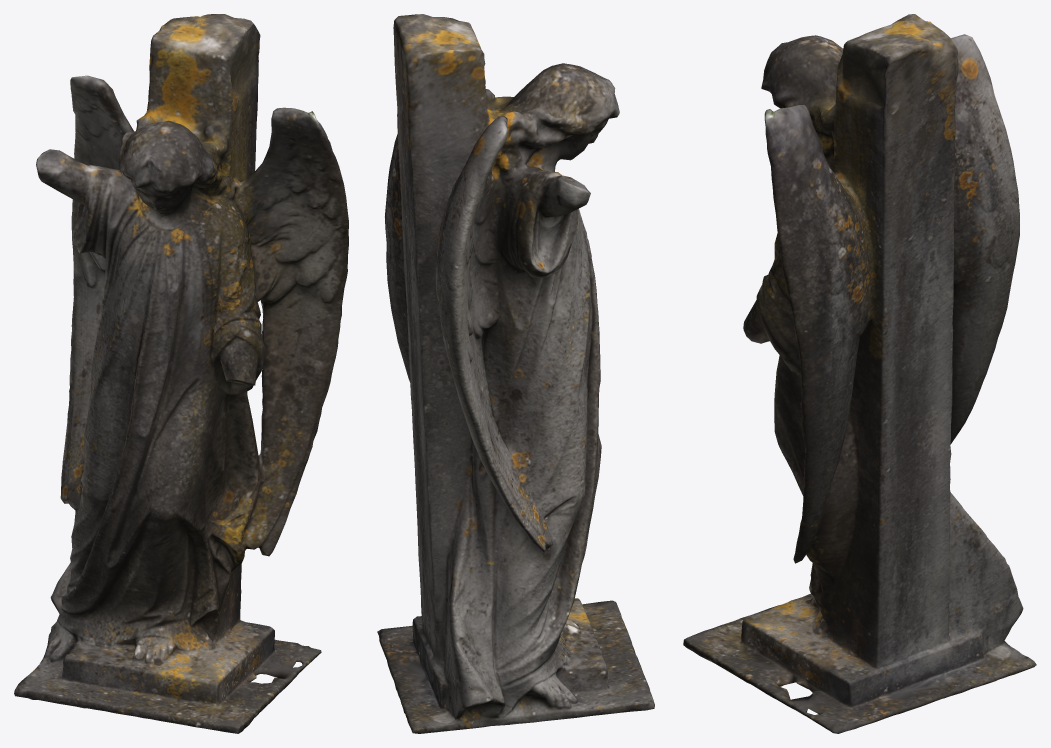
File: angel_statue1.glb
3 views of the same model, side by side, from view 1: azimuth 30°, elevation 25°; view 2: azimuth 150°, elevation 25°; view 3: azimuth 270°, elevation 25° (orthographic). The views are drawn at different scales.
Parts seen in each view (by area): view 1: Object_2; view 2: Object_2; view 3: Object_2.
Part boxes in pixels (<box>): Object_2: <box>14,14,348,733</box>; Object_2: <box>377,14,654,733</box>; Object_2: <box>683,14,1036,733</box>.
Bounding box in the file's own units: 7.99 × 16.25 × 7.91.
Materials: 1 (1 with a texture image).
